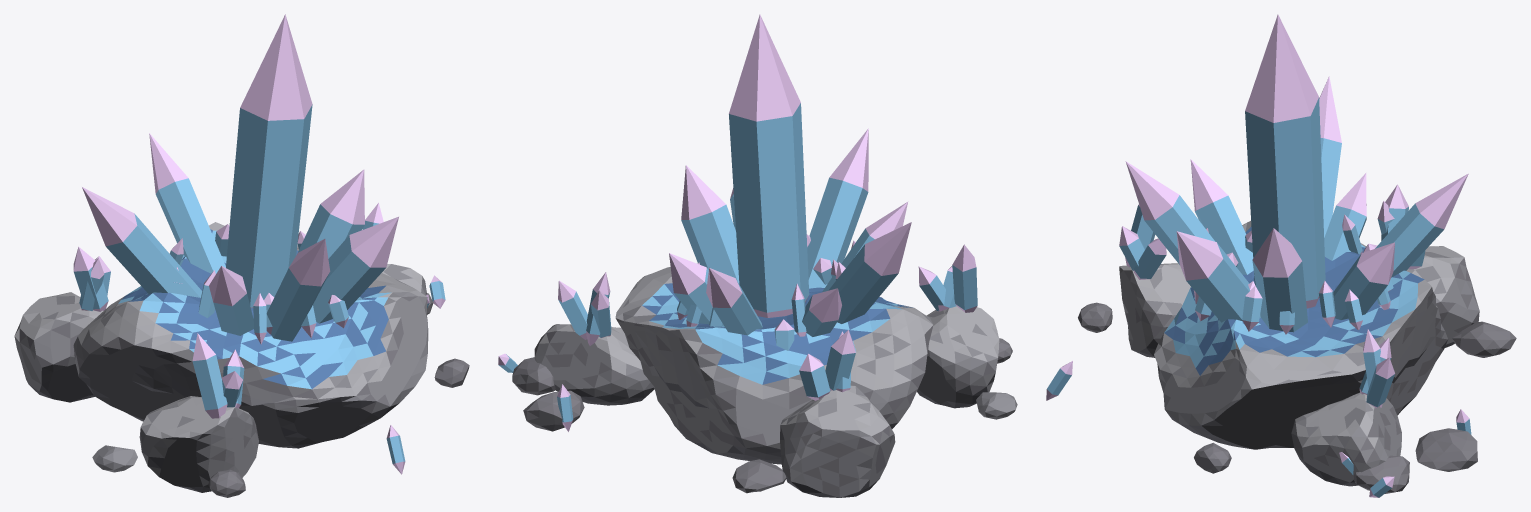
File: Crystal_Opal.obj
3 renders of one model, left to right at view 1: azimuth 30°, elevation 25°; view 2: azimuth 150°, elevation 25°; view 3: azimuth 270°, elevation 25°, orthographic. The views are drawn at different scales.
Parts seen in each view (by area): view 1: Crystal_Opal; view 2: Crystal_Opal; view 3: Crystal_Opal.
Part boxes in pixels (x1,y1,x2,y2): Crystal_Opal: (14, 14, 469, 497); Crystal_Opal: (498, 14, 1017, 497); Crystal_Opal: (1046, 14, 1516, 497).
Size of the model in its own units: 1.38 by 1.22 by 1.27.
